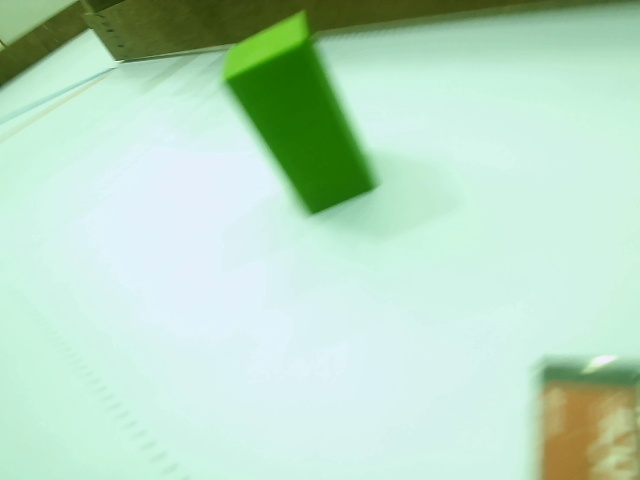green: (208, 23, 385, 217)
